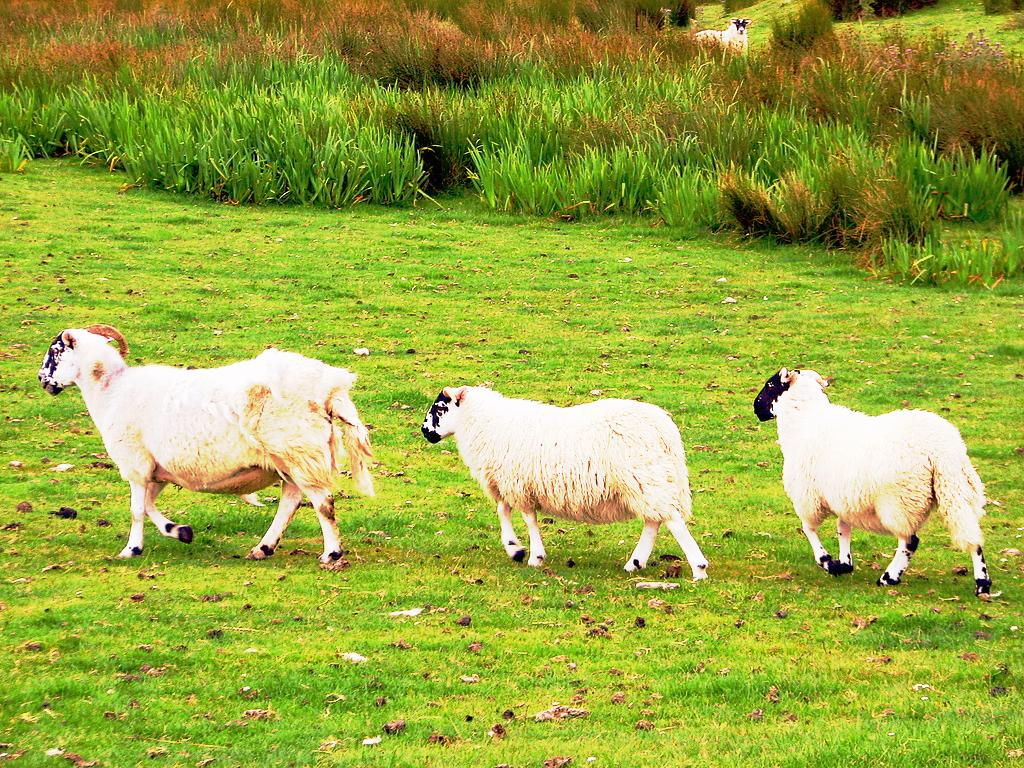Sheep: (38, 326, 371, 558), (751, 368, 990, 597), (418, 386, 706, 572)
